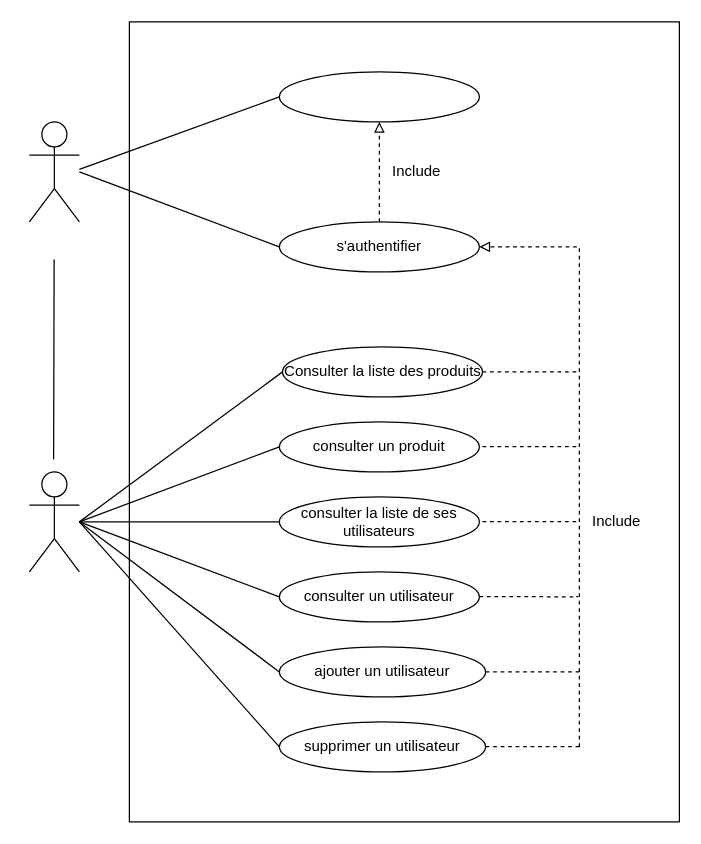
This 701x844 diagram has some shape labels left out. Each missing label, with the centre of its shape:
"se connecter" belongs at [378,96].
"Utilisateur" belongs at [53,171].
"Utilisateur connecté" belongs at [53,521].
